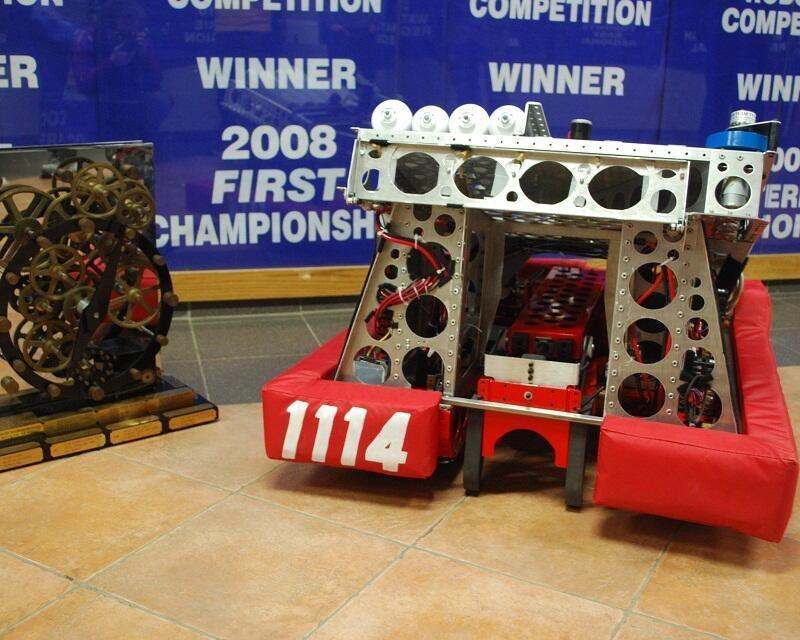robot: (263, 91, 799, 558)
